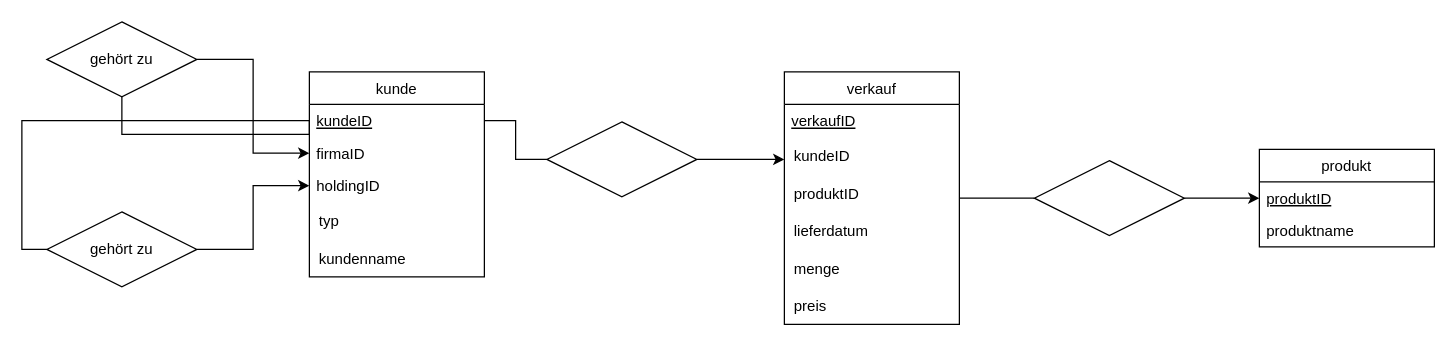
Some shapes in this 1456 by 346 pixel diagram are drawn without their labels. Each missing label, with the centre of its shape:
enthält: (x=1108, y=197)
geliefert an: (x=621, y=159)
